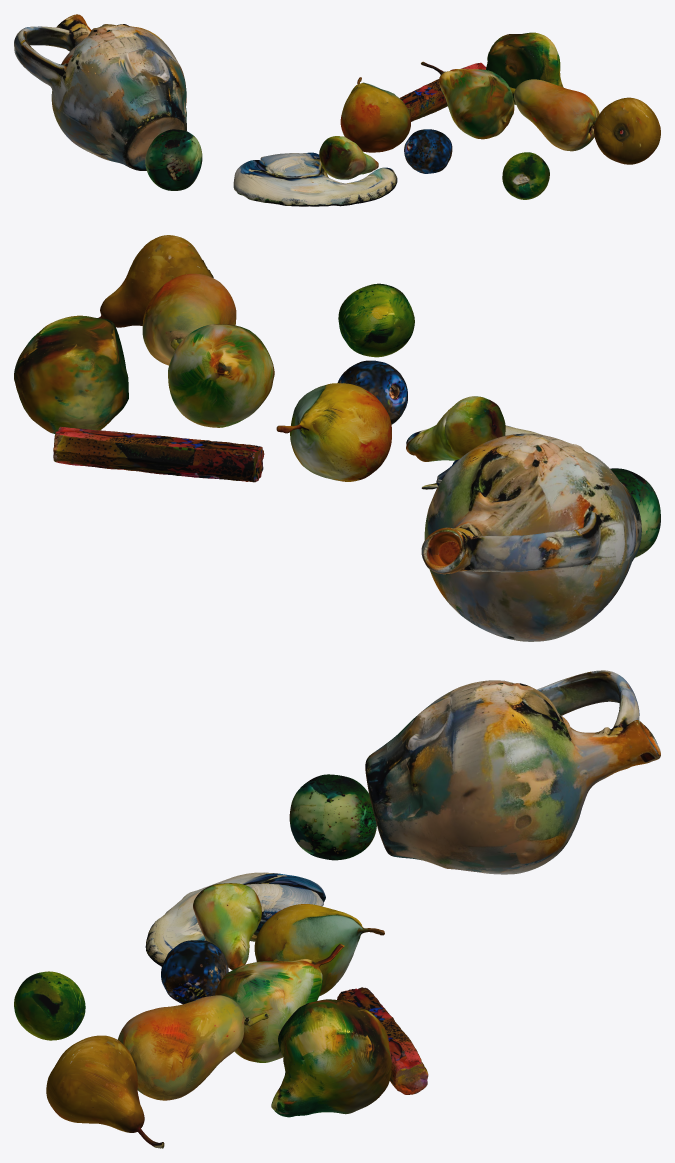
File: simfoundry.glb
The picture shows the model from 3 angles, top to bottom: view 1: azimuth 30°, elevation 25°; view 2: azimuth 150°, elevation 25°; view 3: azimuth 270°, elevation 25°; orthographic projection. The views are drawn at different scales.
Parts seen in each view (by area): view 1: stoneware_jug_xmsnjt_link_iter_11_canonical_mesh_obj, white_oval_plate_exlwoi_link_iter_10_canonical_mesh_obj, green_pear_inneid_link_iter_7_canonical_mesh_obj, green_pear_tcoxke_link_iter_2_canonical_mesh_obj, yellow_pear_cropcv_link_iter_4_canonical_mesh_obj, brown_pear_odlhih_link_iter_3_canonical_mesh_obj, green_pear_uiipij_link_iter_1_canonical_mesh_obj, green_apple_nljnui_link_iter_8_canonical_mesh_obj, green_apple_mzbnhl_link_iter_0_canonical_mesh_obj, green_pear_cnwtpz_link_iter_5_canonical_mesh_obj, black_round_hole_swxxzs_link_iter_6_canonical_mesh_obj, patterned_lidded_pot_nkskdp_link_iter_9_canonical_mesh_obj; view 2: stoneware_jug_xmsnjt_link_iter_11_canonical_mesh_obj, green_pear_uiipij_link_iter_1_canonical_mesh_obj, green_pear_inneid_link_iter_7_canonical_mesh_obj, yellow_pear_cropcv_link_iter_4_canonical_mesh_obj, patterned_lidded_pot_nkskdp_link_iter_9_canonical_mesh_obj, green_pear_tcoxke_link_iter_2_canonical_mesh_obj, brown_pear_odlhih_link_iter_3_canonical_mesh_obj, green_apple_mzbnhl_link_iter_0_canonical_mesh_obj, green_pear_cnwtpz_link_iter_5_canonical_mesh_obj, black_round_hole_swxxzs_link_iter_6_canonical_mesh_obj, green_apple_nljnui_link_iter_8_canonical_mesh_obj; view 3: stoneware_jug_xmsnjt_link_iter_11_canonical_mesh_obj, green_pear_uiipij_link_iter_1_canonical_mesh_obj, green_pear_tcoxke_link_iter_2_canonical_mesh_obj, brown_pear_odlhih_link_iter_3_canonical_mesh_obj, green_pear_inneid_link_iter_7_canonical_mesh_obj, green_apple_nljnui_link_iter_8_canonical_mesh_obj, yellow_pear_cropcv_link_iter_4_canonical_mesh_obj, white_oval_plate_exlwoi_link_iter_10_canonical_mesh_obj, green_pear_cnwtpz_link_iter_5_canonical_mesh_obj, green_apple_mzbnhl_link_iter_0_canonical_mesh_obj, black_round_hole_swxxzs_link_iter_6_canonical_mesh_obj, patterned_lidded_pot_nkskdp_link_iter_9_canonical_mesh_obj.
Boxes of the visible parts, box(x1,y1,x2,y2) form: stoneware_jug_xmsnjt_link_iter_11_canonical_mesh_obj: box(14, 14, 186, 170); white_oval_plate_exlwoi_link_iter_10_canonical_mesh_obj: box(233, 152, 397, 206); green_pear_inneid_link_iter_7_canonical_mesh_obj: box(421, 61, 514, 139); green_pear_tcoxke_link_iter_2_canonical_mesh_obj: box(510, 79, 599, 151); yellow_pear_cropcv_link_iter_4_canonical_mesh_obj: box(340, 77, 410, 152); brown_pear_odlhih_link_iter_3_canonical_mesh_obj: box(594, 97, 660, 164); green_pear_uiipij_link_iter_1_canonical_mesh_obj: box(486, 32, 563, 104); green_apple_nljnui_link_iter_8_canonical_mesh_obj: box(145, 129, 202, 190); green_apple_mzbnhl_link_iter_0_canonical_mesh_obj: box(502, 152, 549, 199); green_pear_cnwtpz_link_iter_5_canonical_mesh_obj: box(319, 136, 378, 179); black_round_hole_swxxzs_link_iter_6_canonical_mesh_obj: box(404, 129, 452, 173); patterned_lidded_pot_nkskdp_link_iter_9_canonical_mesh_obj: box(399, 62, 486, 121); stoneware_jug_xmsnjt_link_iter_11_canonical_mesh_obj: box(421, 433, 641, 641); green_pear_uiipij_link_iter_1_canonical_mesh_obj: box(14, 315, 128, 433); green_pear_inneid_link_iter_7_canonical_mesh_obj: box(168, 324, 274, 427); yellow_pear_cropcv_link_iter_4_canonical_mesh_obj: box(276, 383, 391, 481); patterned_lidded_pot_nkskdp_link_iter_9_canonical_mesh_obj: box(53, 426, 264, 482); green_pear_tcoxke_link_iter_2_canonical_mesh_obj: box(142, 273, 236, 365); brown_pear_odlhih_link_iter_3_canonical_mesh_obj: box(98, 235, 213, 327); green_apple_mzbnhl_link_iter_0_canonical_mesh_obj: box(338, 283, 414, 357); green_pear_cnwtpz_link_iter_5_canonical_mesh_obj: box(406, 396, 505, 461); black_round_hole_swxxzs_link_iter_6_canonical_mesh_obj: box(337, 360, 407, 424); green_apple_nljnui_link_iter_8_canonical_mesh_obj: box(610, 468, 660, 557); stoneware_jug_xmsnjt_link_iter_11_canonical_mesh_obj: box(365, 670, 660, 874); green_pear_uiipij_link_iter_1_canonical_mesh_obj: box(271, 999, 391, 1117); green_pear_tcoxke_link_iter_2_canonical_mesh_obj: box(117, 995, 269, 1100); brown_pear_odlhih_link_iter_3_canonical_mesh_obj: box(46, 1035, 164, 1148); green_pear_inneid_link_iter_7_canonical_mesh_obj: box(214, 944, 344, 1062); green_apple_nljnui_link_iter_8_canonical_mesh_obj: box(289, 774, 376, 860); yellow_pear_cropcv_link_iter_4_canonical_mesh_obj: box(254, 904, 384, 996); white_oval_plate_exlwoi_link_iter_10_canonical_mesh_obj: box(145, 872, 325, 966); green_pear_cnwtpz_link_iter_5_canonical_mesh_obj: box(193, 883, 261, 969); green_apple_mzbnhl_link_iter_0_canonical_mesh_obj: box(14, 971, 85, 1040); black_round_hole_swxxzs_link_iter_6_canonical_mesh_obj: box(161, 940, 228, 1004); patterned_lidded_pot_nkskdp_link_iter_9_canonical_mesh_obj: box(337, 987, 428, 1094).
Size of what is drawn, in the model's own units: 1 by 0.2426 by 0.8004.
12 materials, 12 textured.
